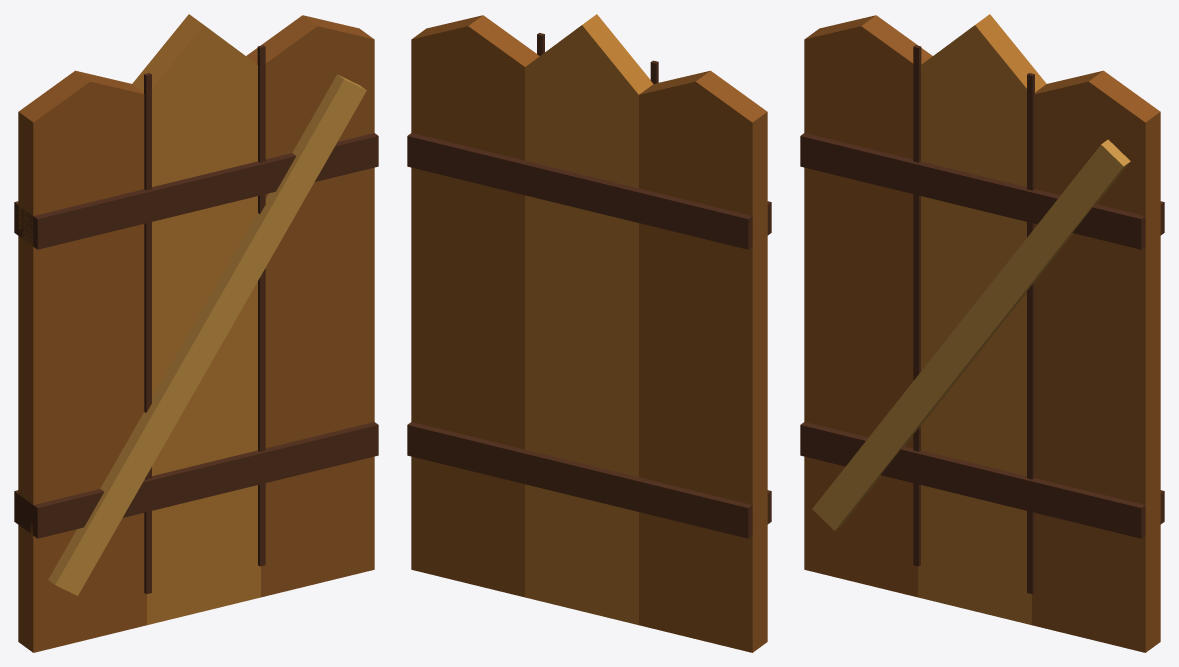
3 renders of one model, left to right at view 1: azimuth 30°, elevation 25°; view 2: azimuth 150°, elevation 25°; view 3: azimuth 330°, elevation 25°, orthographic.
Visible parts, largest first — view 1: WK_WoodPalisade_W16_LOD2; view 2: WK_WoodPalisade_W16_LOD2; view 3: WK_WoodPalisade_W16_LOD2.
Part boxes in pixels (x1,y1,x2,y2): WK_WoodPalisade_W16_LOD2: (14, 14, 378, 652); WK_WoodPalisade_W16_LOD2: (407, 14, 771, 652); WK_WoodPalisade_W16_LOD2: (800, 14, 1164, 652).
Size of the model in its own units: 2.1 by 3.45 by 0.28.
